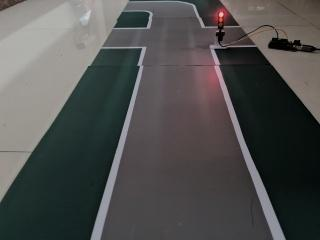red: (213, 8, 230, 36)
